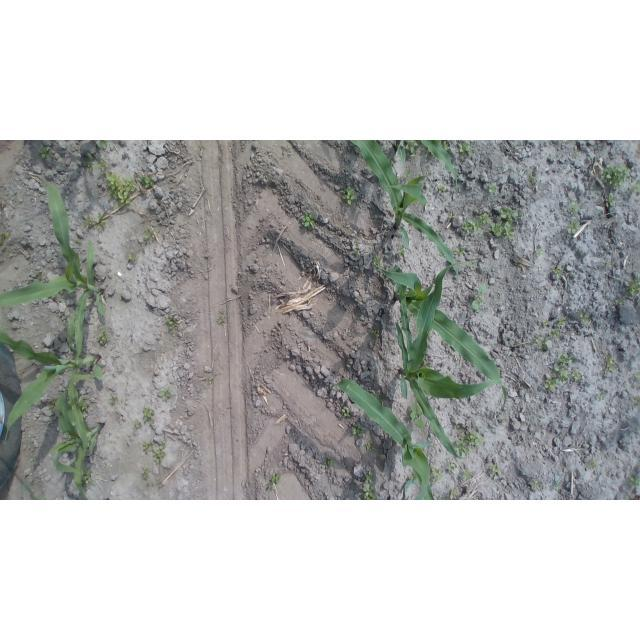Maize: (374, 262, 508, 409), (1, 180, 108, 362), (395, 261, 479, 461), (348, 140, 458, 274), (1, 315, 104, 452), (329, 378, 437, 500), (49, 374, 106, 500), (389, 140, 457, 196), (23, 476, 42, 500), (401, 477, 413, 500)
Weeds: (104, 171, 136, 206), (488, 204, 518, 241), (599, 164, 632, 190), (453, 429, 485, 455), (462, 211, 491, 233), (554, 350, 573, 382), (408, 401, 425, 429), (470, 284, 487, 310), (84, 213, 107, 232), (340, 187, 358, 206), (601, 351, 615, 373), (531, 334, 550, 350), (154, 441, 167, 464), (266, 472, 282, 490), (625, 278, 640, 297), (301, 211, 315, 230), (157, 385, 171, 403), (137, 174, 155, 188), (362, 484, 376, 500), (143, 438, 156, 455), (143, 406, 156, 422), (405, 140, 419, 154), (352, 424, 365, 439), (529, 477, 542, 492), (98, 330, 111, 345), (526, 168, 538, 184), (431, 467, 442, 484), (567, 220, 581, 233), (567, 203, 581, 216), (460, 141, 473, 155), (143, 228, 158, 240), (362, 470, 374, 484), (586, 457, 598, 471), (545, 378, 560, 389), (83, 469, 93, 485), (39, 147, 53, 158), (628, 474, 640, 486), (326, 457, 339, 468), (579, 310, 589, 324), (127, 252, 141, 262), (166, 315, 176, 329), (461, 469, 473, 480), (489, 463, 501, 474), (572, 369, 583, 381), (82, 161, 94, 172), (554, 265, 565, 277), (448, 488, 458, 501), (549, 328, 560, 339), (363, 440, 373, 452), (605, 194, 615, 206), (557, 316, 566, 329), (95, 140, 108, 149), (142, 466, 151, 479), (98, 157, 106, 171), (446, 462, 456, 473), (536, 246, 545, 258), (633, 180, 640, 195), (398, 245, 406, 258), (553, 481, 563, 491), (541, 317, 551, 327), (33, 272, 43, 282), (217, 313, 227, 323), (437, 184, 447, 194), (342, 407, 351, 418), (454, 248, 465, 257), (0, 233, 8, 245), (374, 255, 383, 265), (403, 169, 412, 179), (613, 299, 625, 306), (371, 330, 380, 339), (488, 185, 497, 194), (134, 419, 142, 429), (353, 247, 361, 257), (442, 141, 450, 151), (598, 390, 606, 399), (108, 396, 117, 404), (49, 400, 56, 410), (634, 395, 640, 406), (375, 394, 383, 402), (449, 211, 457, 219), (85, 152, 93, 160), (605, 260, 612, 269), (569, 195, 578, 202), (83, 402, 90, 410), (573, 146, 579, 155), (455, 425, 462, 432), (635, 371, 640, 379), (589, 183, 595, 189), (199, 145, 205, 151), (502, 418, 509, 423), (76, 238, 83, 243), (629, 184, 634, 190), (446, 484, 451, 490), (343, 222, 348, 228), (208, 379, 213, 384), (150, 420, 155, 425), (409, 314, 415, 318), (438, 496, 444, 500), (497, 291, 501, 297), (409, 155, 416, 158), (60, 290, 64, 294), (52, 295, 56, 298), (205, 387, 208, 390)
